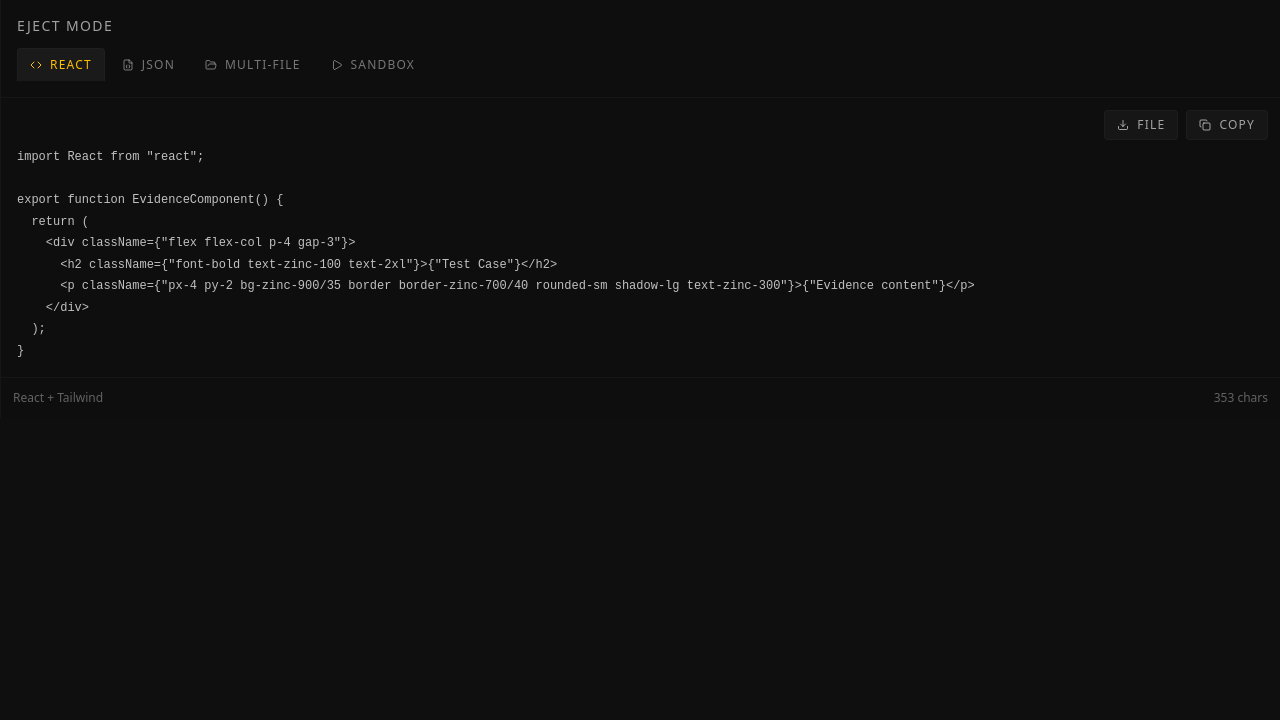
Test: EjectPanel › switches to JSON tab when clicked
Click the button "JSON": (148, 64) [109,48,188,81]
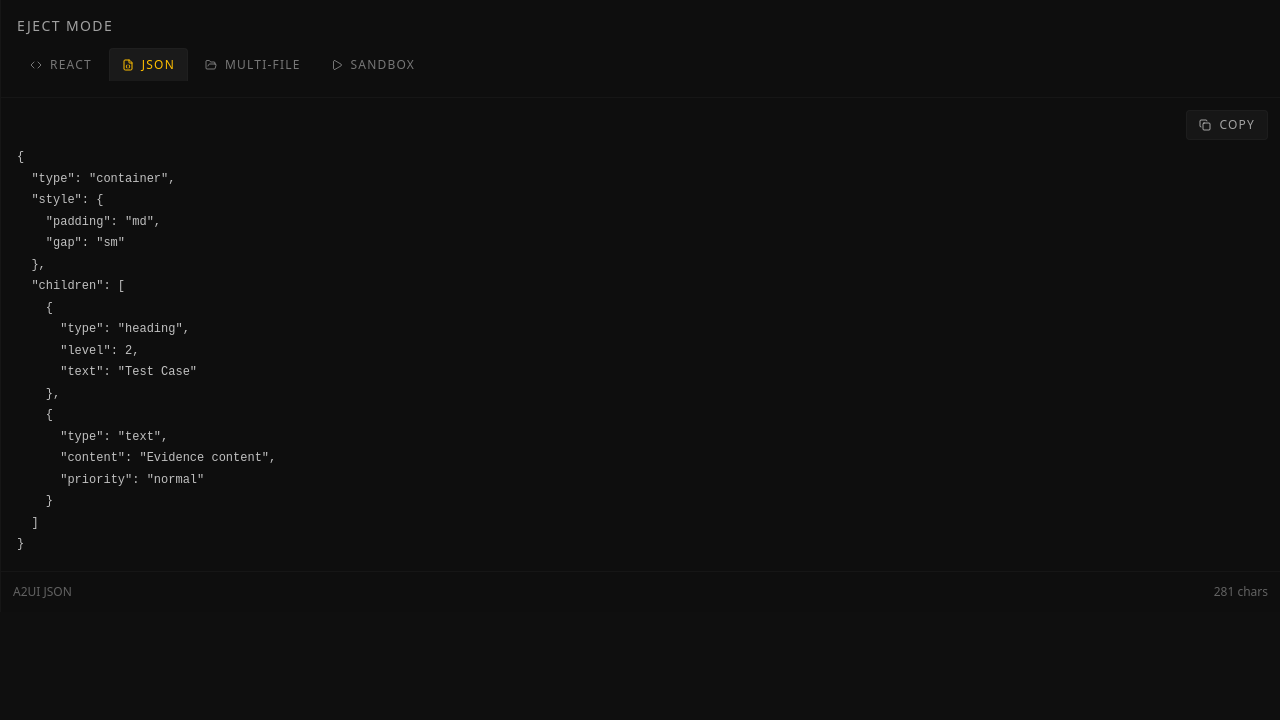
expect the text "\"type\": \"container\"" is shown: met, box [17,150,276,551]
